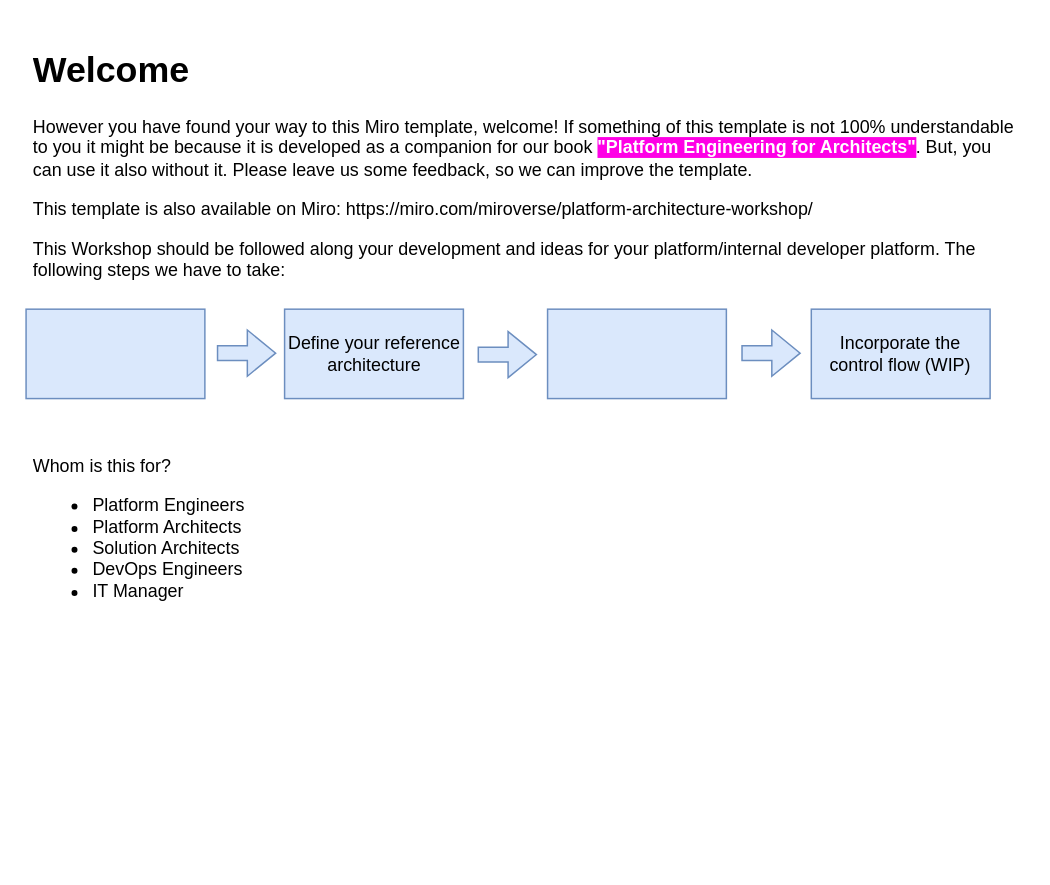
The diagram is 1050 pixels wide and 885 high, and some of its shapes have lost their labels. Each missing label, with the centre of its shape:
"Build your actual architecture (WIP)" belongs at [636,353].
"Gather the input for taking decisions" belongs at [115,353].
